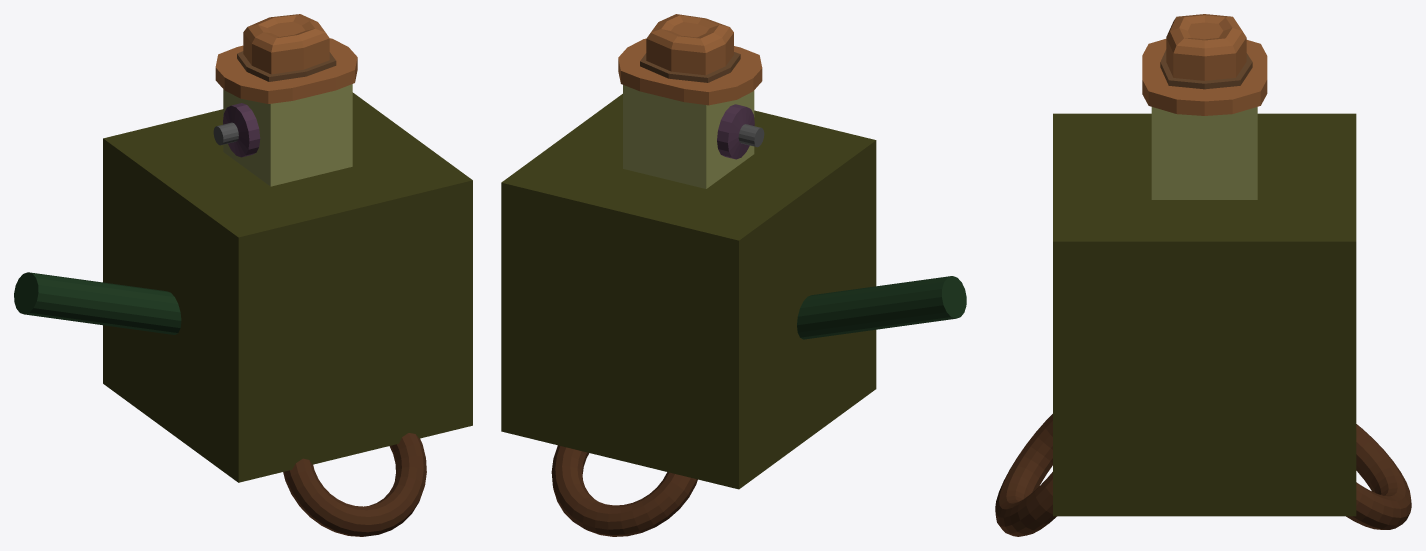
Rendered from player02_anim.fbx.
The picture shows the model from 3 angles, left to right: view 1: azimuth 30°, elevation 25°; view 2: azimuth 150°, elevation 25°; view 3: azimuth 270°, elevation 25°; orthographic projection. The views are drawn at different scales.
Parts seen in each view (by area): view 1: chasis, Hat, Cube.001, Cylinder, Torus.001, Cylinder.001; view 2: chasis, Hat, Cube.001, Cylinder, Torus.002, Cylinder.001; view 3: chasis, Hat, Cube.001, Torus.001, Torus.002.
Boxes of the visible parts, x1=… form: chasis: x1=103, y1=92, x2=472, y2=482; Hat: x1=215, y1=14, x2=357, y2=103; Cube.001: x1=223, y1=84, x2=352, y2=186; Cylinder: x1=14, y1=272, x2=181, y2=334; Torus.001: x1=283, y1=433, x2=426, y2=536; Cylinder.001: x1=213, y1=103, x2=260, y2=157; chasis: x1=501, y1=94, x2=876, y2=489; Hat: x1=618, y1=14, x2=762, y2=105; Cube.001: x1=623, y1=85, x2=754, y2=188; Cylinder: x1=797, y1=276, x2=966, y2=339; Torus.002: x1=551, y1=445, x2=697, y2=536; Cylinder.001: x1=717, y1=104, x2=764, y2=159; chasis: x1=1053, y1=113, x2=1356, y2=516; Hat: x1=1142, y1=14, x2=1267, y2=115; Cube.001: x1=1151, y1=107, x2=1257, y2=199; Torus.001: x1=995, y1=414, x2=1056, y2=536; Torus.002: x1=1346, y1=424, x2=1411, y2=529.
Bounding box in the file's own units: 329 × 363 × 275.
